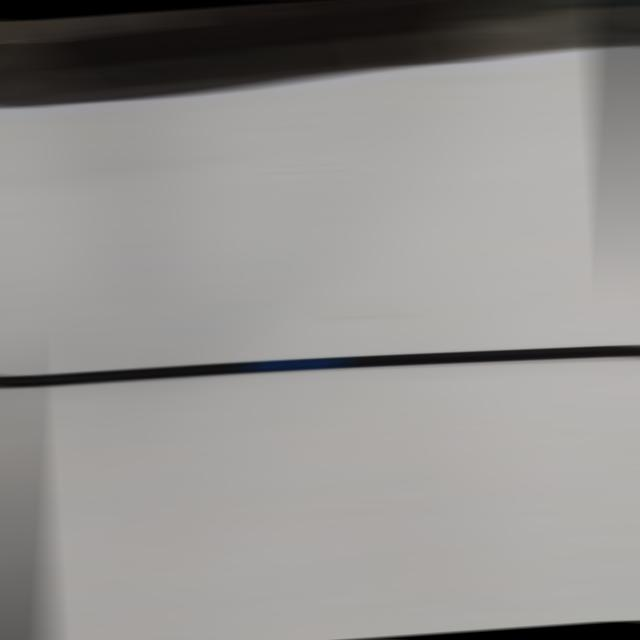blue: (262, 358, 326, 371)
